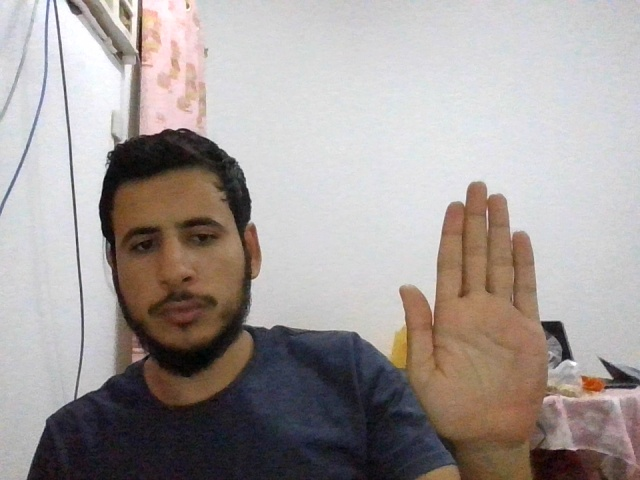Five: (397, 180, 549, 441)
